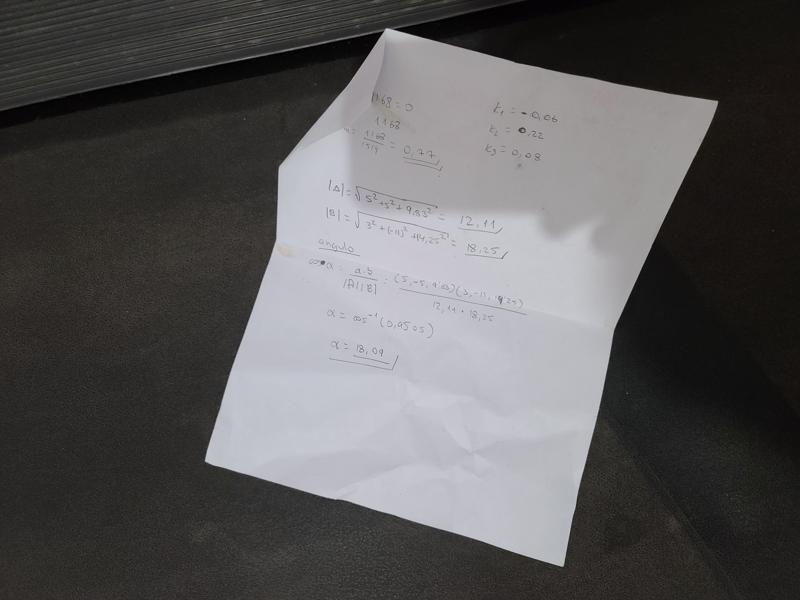papel: (203, 31, 719, 568)
